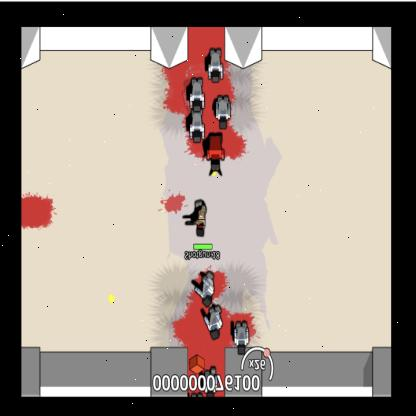agent: (193, 198, 208, 240)
ball: (107, 292, 116, 304)
boss: (206, 132, 226, 175)
jombie: (188, 75, 206, 113), (232, 320, 250, 355), (214, 94, 231, 130), (188, 113, 206, 146), (207, 49, 223, 83), (200, 270, 214, 308), (207, 307, 222, 340)
